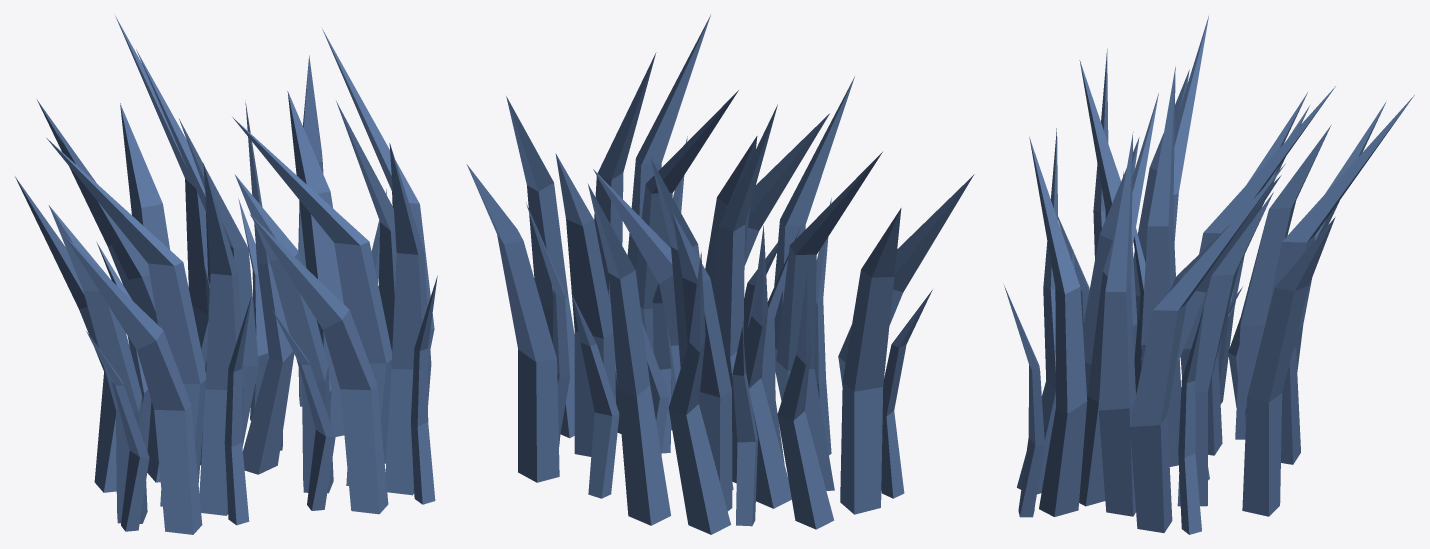
Rendered from 01_01Grass_Red.fbx.
The picture shows the model from 3 angles, left to right: view 1: azimuth 30°, elevation 25°; view 2: azimuth 150°, elevation 25°; view 3: azimuth 270°, elevation 25°; orthographic projection. The views are drawn at different scales.
Parts seen in each view (by area): view 1: Icosphere.063; view 2: Icosphere.063; view 3: Icosphere.063.
Boxes of the visible parts, x1,y1,x2,y2 form: Icosphere.063: (15, 16, 437, 534); Icosphere.063: (466, 15, 974, 534); Icosphere.063: (1004, 16, 1414, 534).
Bounding box in the file's own units: 56.37 × 52.36 × 52.93.
